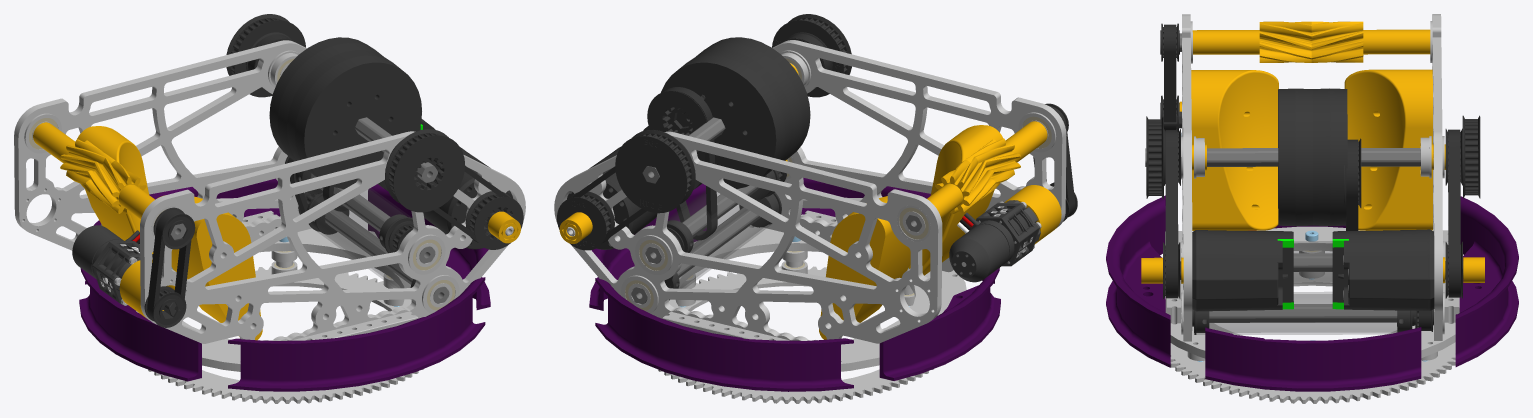
3 renders of one model, left to right at view 1: azimuth 30°, elevation 25°; view 2: azimuth 150°, elevation 25°; view 3: azimuth 270°, elevation 25°, orthographic.
Parts seen in each view (by area): view 1: Part 17 (×3), 4" Stealth Wheel (60A, 1/2" Hex Bore) (×2), Part 148, 36t Custom HTD 5mm Pulley (0.375" Wide, 1/2" Hex Bore w/ TTB (×2), Part 15 (×2), Part 145, Part 50, Spur gear (10 teeth), Part 49, 1/2" ThunderHex (7.625 in) (×2), 1/2" Rounded Hex (13.75mm) ID Bearing (1.125" OD, 0.313" WD, (×3), 15t Aluminum Pulley (HTD 5mm, 9mm Wide, 1/2" Hex Bore) (×3) (+17 smaller); view 2: Part 17 (×3), Part 147, 4" Stealth Wheel (60A, 1/2" Hex Bore) (×2), 36t Custom HTD 5mm Pulley (0.375" Wide, 1/2" Hex Bore w/ TTB (×2), Part 15 (×2), Part 145, Part 49, NEO 550 Brushless Motor, Part 50, Spur gear (10 teeth), 1/2" ThunderHex (7.625 in) (×2), Part 14 (+18 smaller); view 3: Kraken X60 Brushless Motor (×2), Part 50, Part 146, Part 49, 4" Stealth Wheel (60A, 1/2" Hex Bore) (×2), Part 17 (×3), Part 148, Part 147, Part 15 (×2), Part 14, 60T 5M 9mm Wide Belt (×2), Spur gear (10 teeth) (+11 smaller).
Part boxes in pixels (left/top/right/bottom): Part 17 (×3): left=14, top=40, right=525, bottom=371; 4" Stealth Wheel (60A, 1/2" Hex Bore) (×2): left=269, top=37, right=421, bottom=189; Part 148: left=228, top=277, right=485, bottom=391; 36t Custom HTD 5mm Pulley (0.375" Wide, 1/2" Hex Bore w/ TTB (×2): left=226, top=14, right=464, bottom=212; Part 15 (×2): left=148, top=170, right=423, bottom=403; Part 145: left=79, top=268, right=201, bottom=381; Part 50: left=157, top=195, right=262, bottom=340; Spur gear (10 teeth): left=60, top=139, right=146, bottom=214; Part 49: left=77, top=126, right=153, bottom=253; 1/2" ThunderHex (7.625 in) (×2): left=310, top=173, right=449, bottom=303; 1/2" Rounded Hex (13.75mm) ID Bearing (1.125" OD, 0.313" WD, (×3): left=268, top=50, right=459, bottom=313; 15t Aluminum Pulley (HTD 5mm, 9mm Wide, 1/2" Hex Bore) (×3): left=144, top=207, right=413, bottom=327; Part 17 (×3): left=554, top=40, right=1066, bottom=371; Part 147: left=595, top=278, right=853, bottom=391; 4" Stealth Wheel (60A, 1/2" Hex Bore) (×2): left=661, top=37, right=810, bottom=189; 36t Custom HTD 5mm Pulley (0.375" Wide, 1/2" Hex Bore w/ TTB (×2): left=615, top=14, right=851, bottom=213; Part 15 (×2): left=658, top=170, right=933, bottom=403; Part 145: left=879, top=268, right=1000, bottom=380; Part 49: left=819, top=196, right=910, bottom=339; NEO 550 Brushless Motor: left=949, top=212, right=1014, bottom=282; Part 50: left=909, top=125, right=1002, bottom=275; Spur gear (10 teeth): left=935, top=138, right=1020, bottom=213; 1/2" ThunderHex (7.625 in) (×2): left=631, top=185, right=760, bottom=304; Part 14: left=673, top=193, right=780, bottom=288; Kraken X60 Brushless Motor (×2): left=1192, top=229, right=1434, bottom=311; Part 50: left=1191, top=70, right=1278, bottom=230; Part 146: left=1205, top=327, right=1421, bottom=391; Part 49: left=1344, top=69, right=1432, bottom=230; 4" Stealth Wheel (60A, 1/2" Hex Bore) (×2): left=1278, top=88, right=1347, bottom=226; Part 17 (×3): left=1165, top=14, right=1455, bottom=358; Part 148: left=1106, top=195, right=1170, bottom=367; Part 147: left=1455, top=196, right=1518, bottom=366; Part 15 (×2): left=1170, top=241, right=1455, bottom=403; Part 14: left=1196, top=292, right=1409, bottom=334; 60T 5M 9mm Wide Belt (×2): left=1165, top=129, right=1460, bottom=298; Spur gear (10 teeth): left=1259, top=21, right=1363, bottom=62.
Bounding box in the file's own units: 0.3293 × 0.2205 × 0.3034.
